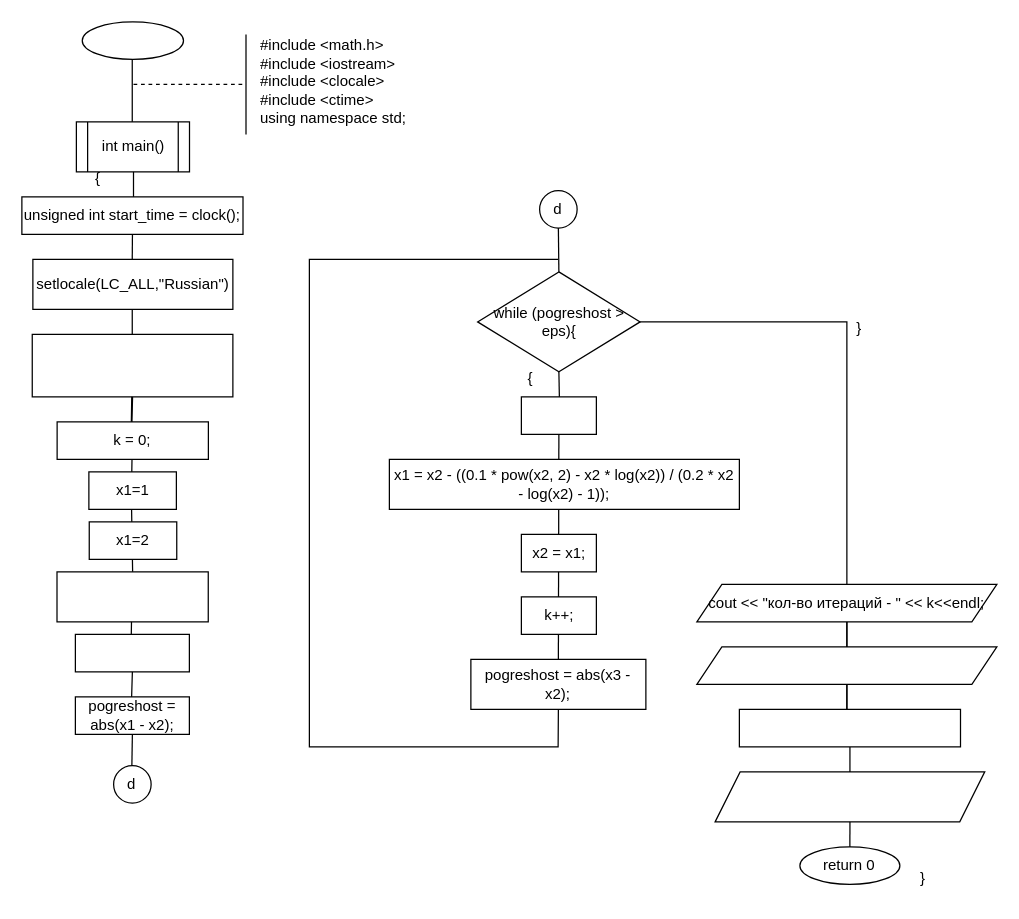
Image size: 1019x919. Some labels were removed from this diagram. Here are the shapes that lost their labels. From the top down, the centre of each, then its label:
(x=132, y=40): Начало
(x=132, y=365): float eps, x1, x2, x3, pogreshost, k;
(x=558, y=415): x3 = x2;
(x=132, y=596): cout << "Введите точность - ";
(x=131, y=652): cin >> eps;
(x=846, y=665): cout << "найденный корень - " << x1;
(x=849, y=727): unsigned int end_time = clock();
(x=849, y=796): cout << " Время выполнения - "<<end_time-start_time<<endl;
